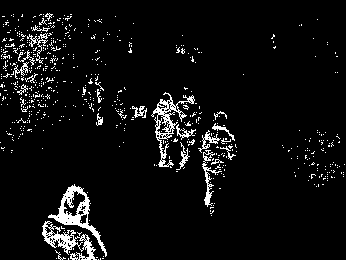person: (42, 184, 109, 260), (200, 110, 237, 215), (174, 85, 201, 171), (151, 91, 180, 168), (81, 73, 107, 127)
